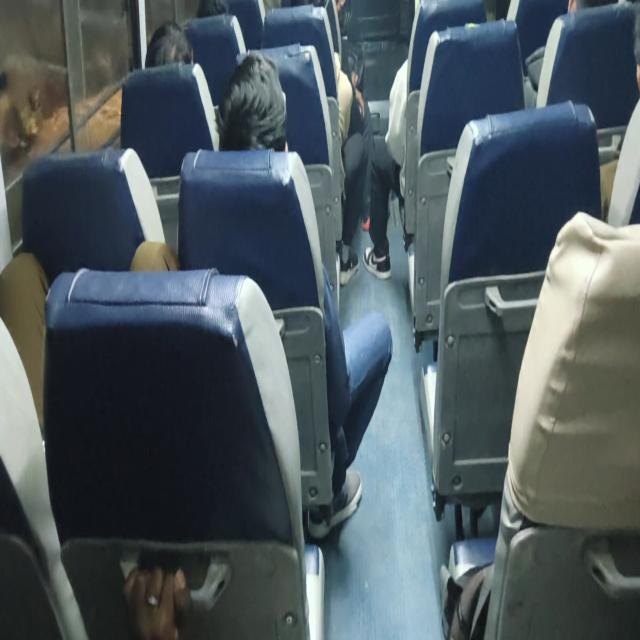person: (218, 58, 300, 165), (153, 26, 200, 74), (626, 0, 640, 94), (190, 0, 233, 28), (556, 0, 616, 19)
